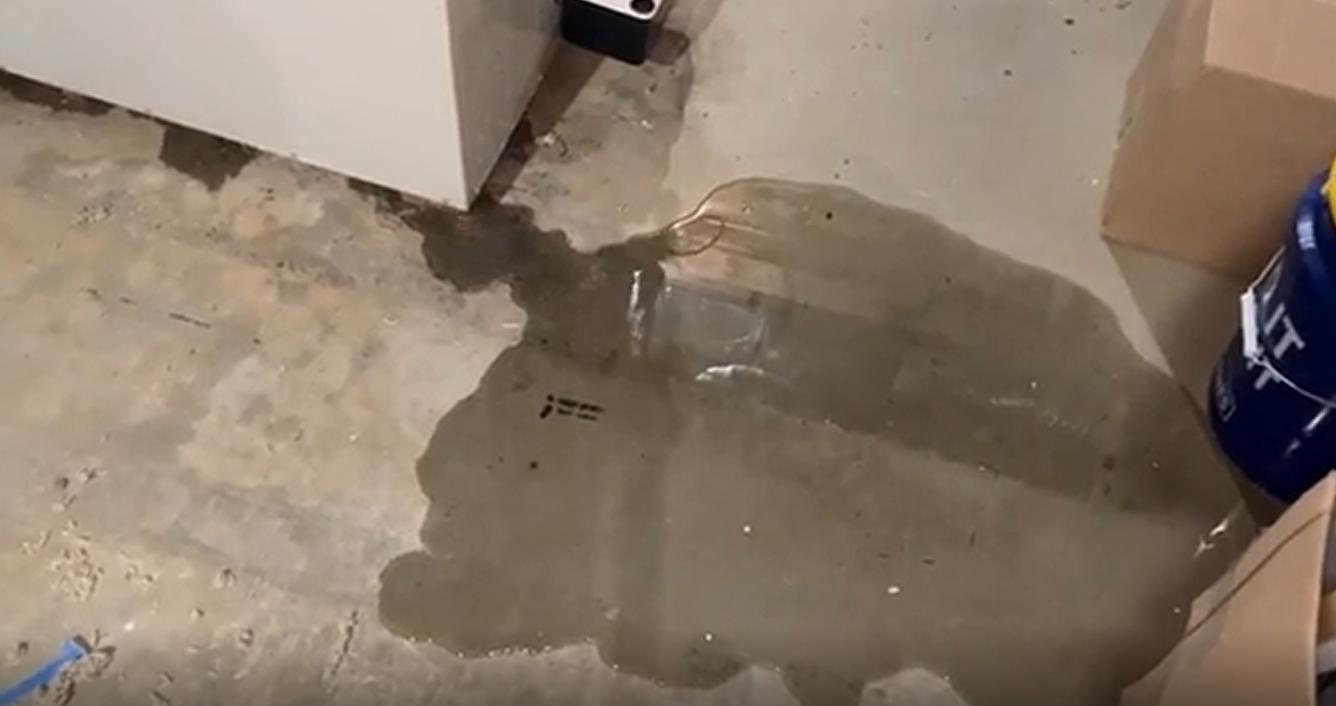water accumulation: (356, 173, 1262, 701), (159, 114, 258, 190), (0, 67, 114, 118)
